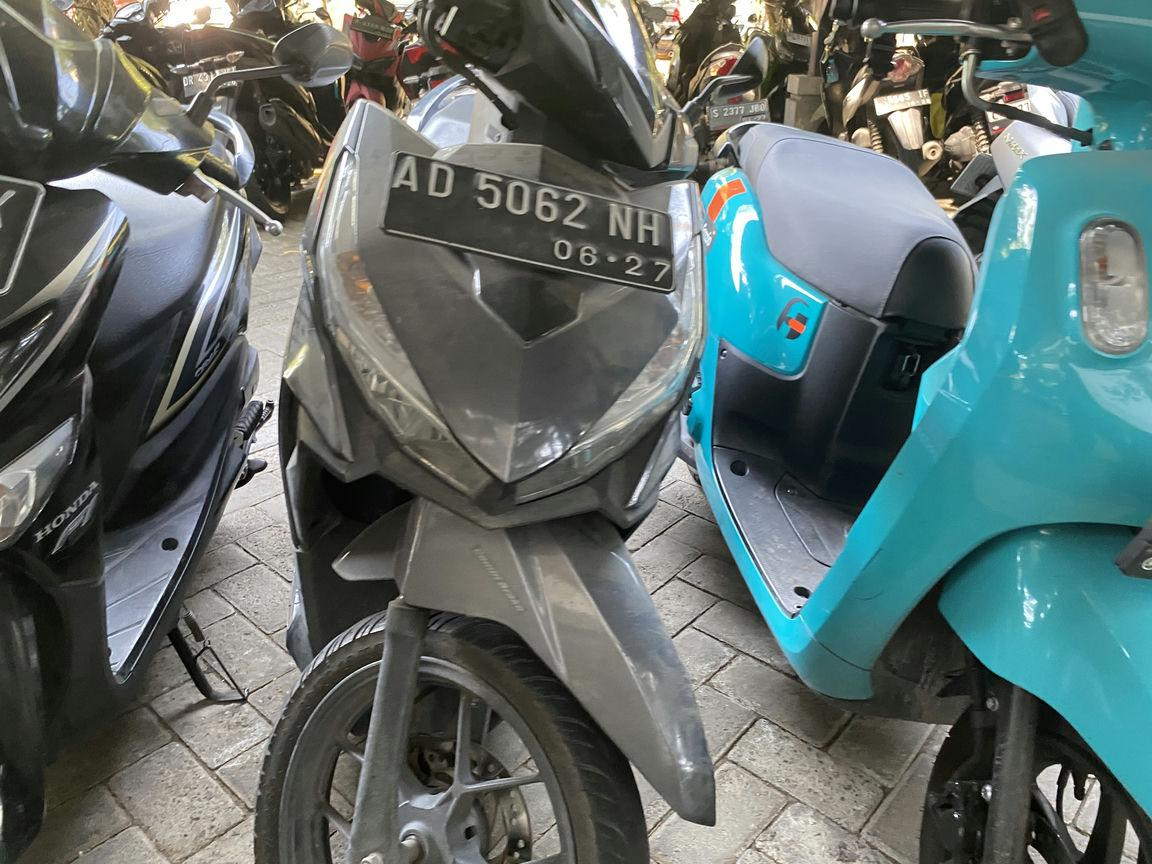plat: (382, 153, 675, 292)
